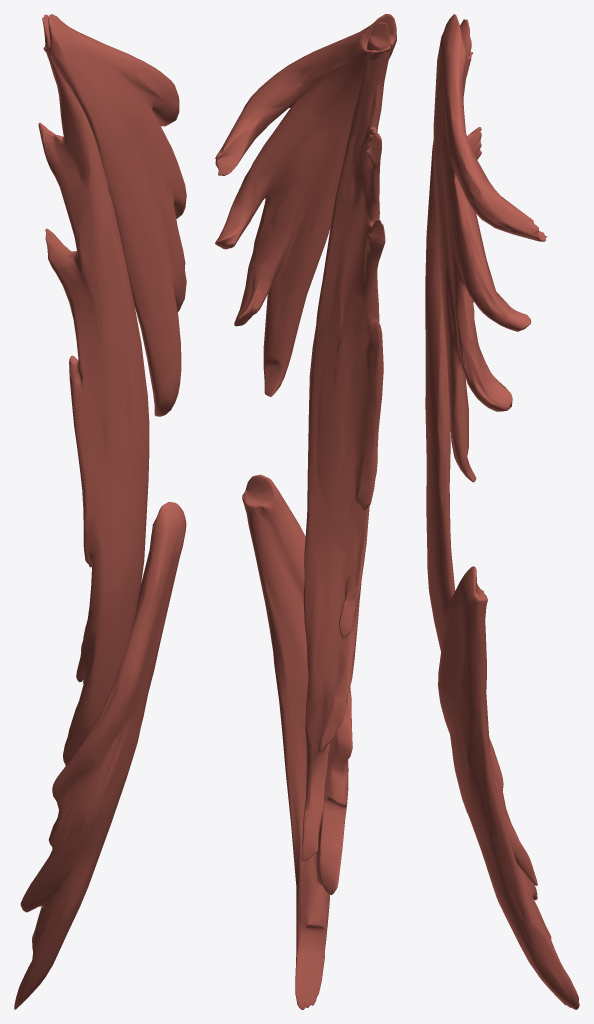
The model's file is longus-colli.glb.
3 renders of one model, left to right at view 1: azimuth 30°, elevation 25°; view 2: azimuth 150°, elevation 25°; view 3: azimuth 270°, elevation 25°, orthographic. The views are drawn at different scales.
Visible parts, largest first — view 1: FMA46286, FMA46284, FMA46288; view 2: FMA46286, FMA46284, FMA46288; view 3: FMA46284, FMA46288, FMA46286.
Boxes of the visible parts, box(x1,y1,x2,y2) form: FMA46286: box(38, 14, 149, 765); FMA46284: box(43, 14, 186, 416); FMA46288: box(14, 501, 186, 1009); FMA46286: box(301, 22, 391, 860); FMA46284: box(215, 14, 396, 396); FMA46288: box(242, 474, 352, 1009); FMA46284: box(433, 14, 547, 482); FMA46288: box(438, 566, 579, 1009); FMA46286: box(425, 19, 537, 885).
Bounding box in the file's own units: 0.2524 × 1.6 × 0.2284.
